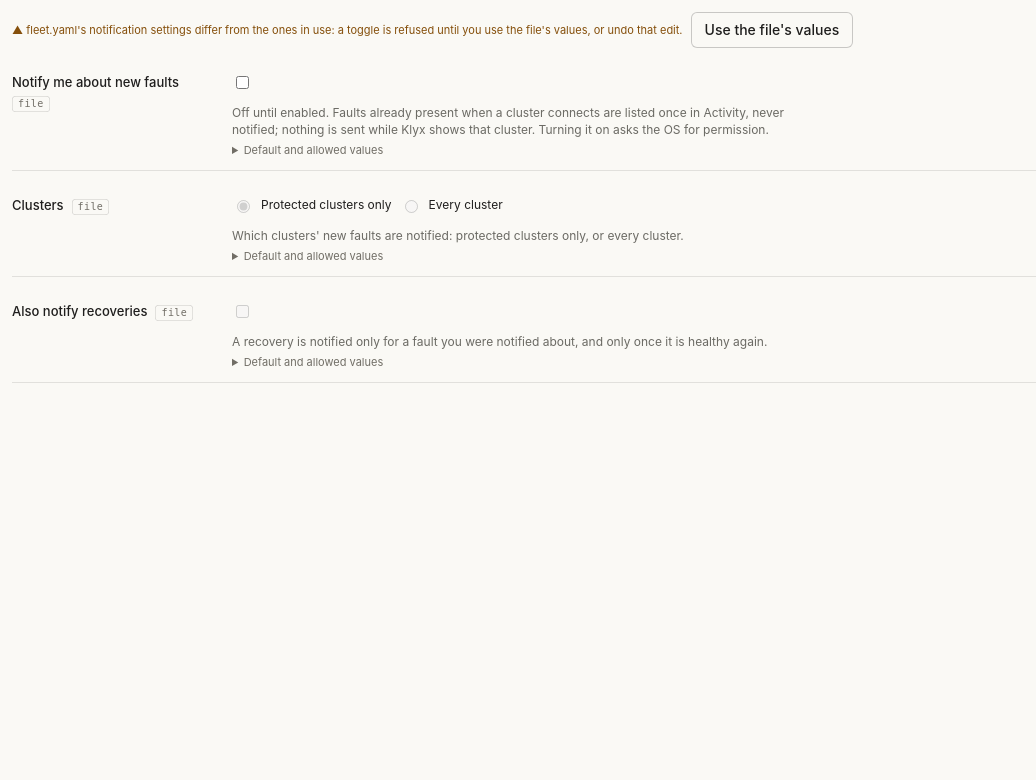
NotificationSettingsPanel › a hand edit is drift: Use the file's values shows its plan, and Apply applies that digest
Check: the element with test id "notifications-diverged" shows "differ from the ones in use", box [12,23,682,37]
Click the button "Use the file's values".
click(772, 30)  # box [690,12,853,48]
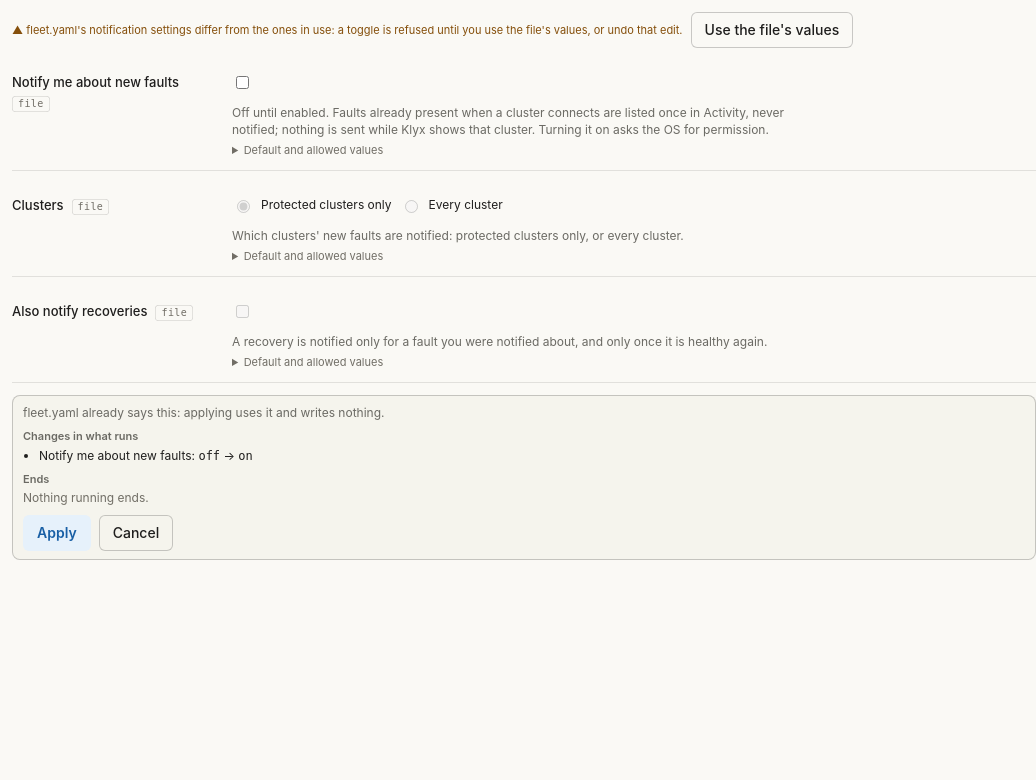
Check: the list with test id "plan-changes" reads "Notify me about new faults: off → on", box [39,448,253,462]
Check: the text "Nothing running ends." is shown, box [23,490,149,505]
Click the button "Apply".
click(57, 533)  # box [23,515,91,551]
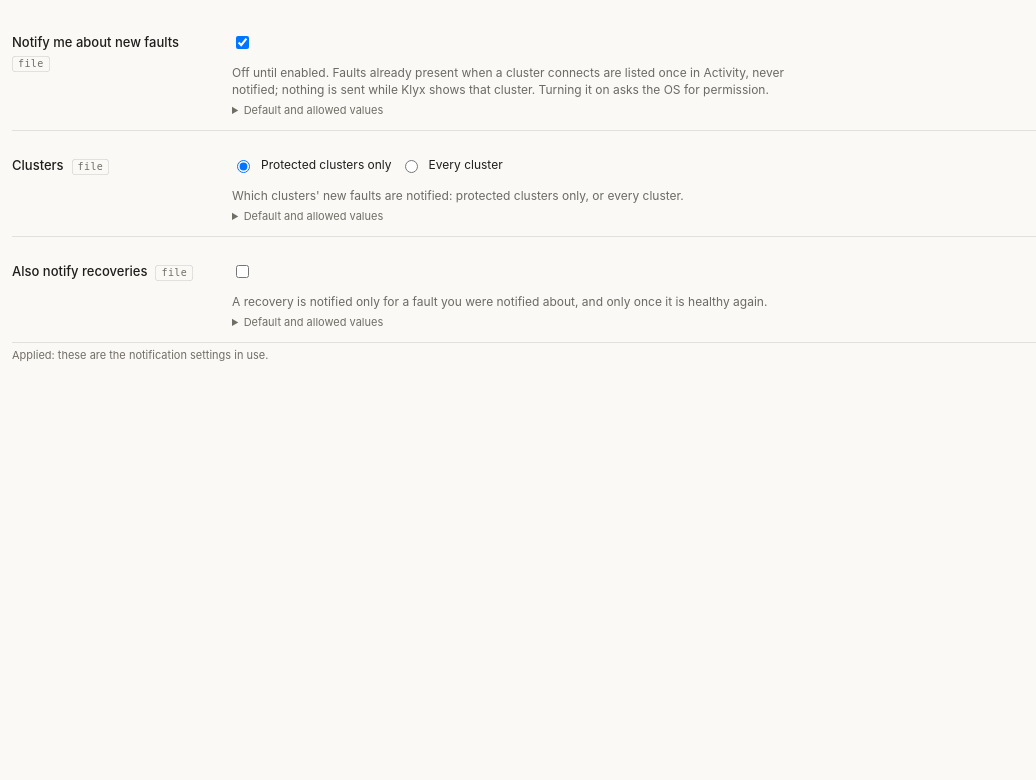
Check: the element with test id "settings-plan" is gone
Check: the element with test id "notifications-diverged" is gone
Check: the checkbox labelled "Notify me about new faults" is checked, box [236,36,249,48]
